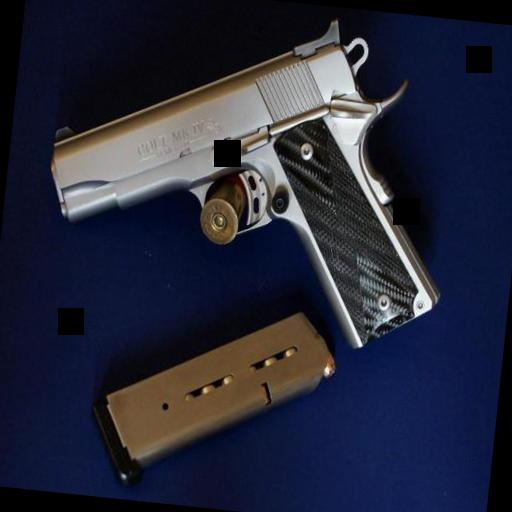Handgun: (16, 0, 474, 371)
